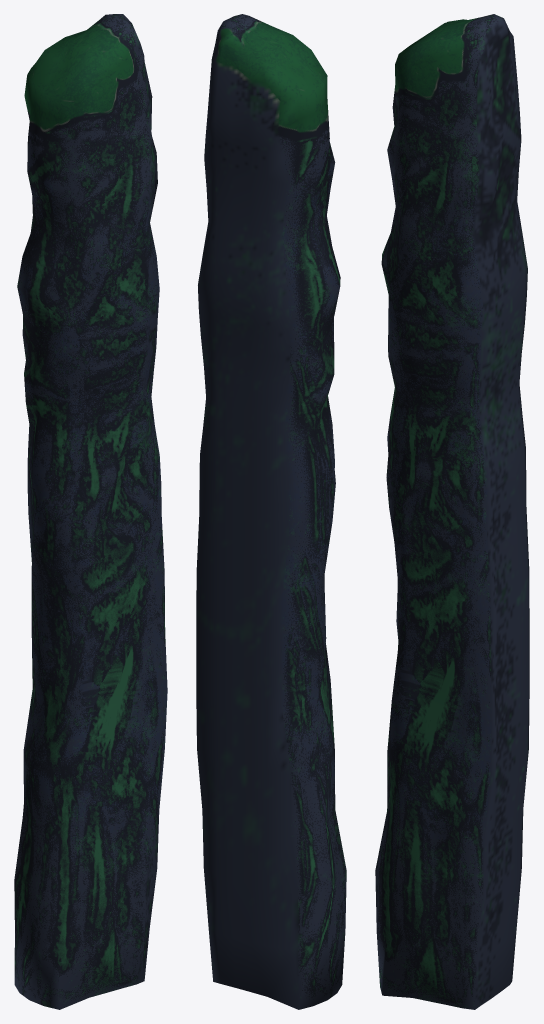
File: RockPillar_Bot.fbx
3 views of the same model, side by side, from view 1: azimuth 30°, elevation 25°; view 2: azimuth 150°, elevation 25°; view 3: azimuth 330°, elevation 25° (orthographic). The views are drawn at different scales.
Visible parts, largest first — view 1: RockPillar_Bot_low; view 2: RockPillar_Bot_low; view 3: RockPillar_Bot_low.
Part boxes in pixels (x1=…): RockPillar_Bot_low: x1=14, y1=14, x2=167, y2=1009; RockPillar_Bot_low: x1=196, y1=14, x2=346, y2=1009; RockPillar_Bot_low: x1=375, y1=14, x2=529, y2=1009.
Size of the model in its own units: 147 by 1066 by 110.
Materials: 1 (1 with a texture image).
